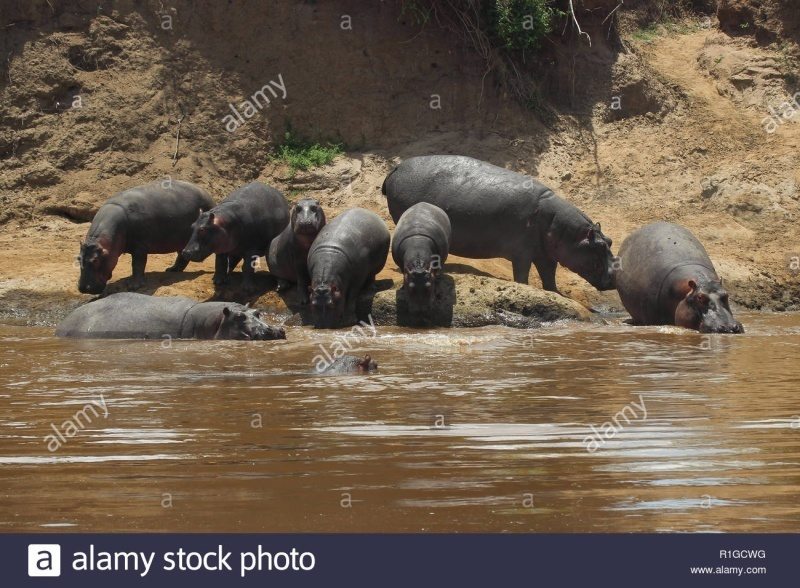hipopotamo: (372, 136, 622, 310), (54, 286, 289, 369), (613, 218, 749, 344), (68, 175, 197, 294), (180, 177, 289, 291), (309, 205, 392, 337), (385, 200, 459, 316), (291, 339, 402, 395), (267, 192, 318, 287)
